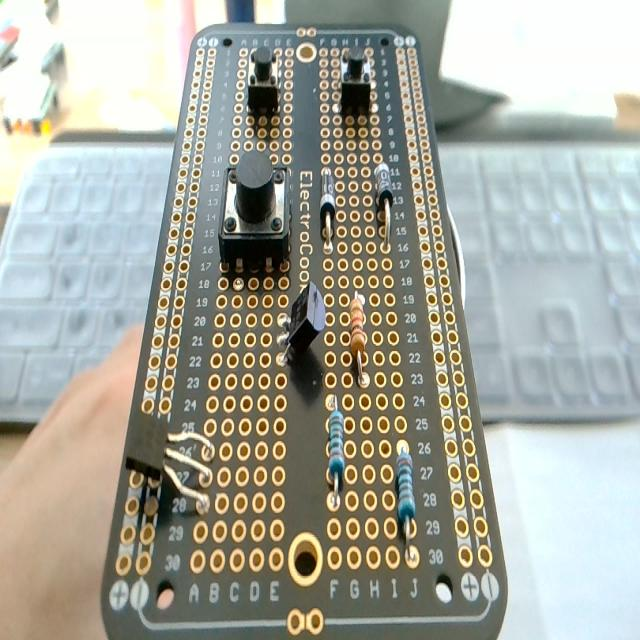diode: (375, 162, 393, 249), (320, 166, 336, 247)
resistor: (395, 446, 416, 556), (326, 397, 345, 509), (349, 294, 369, 386)
switch: (218, 152, 291, 276), (340, 49, 372, 117), (248, 46, 278, 113)
transistor: (128, 410, 218, 519), (274, 280, 326, 368)
